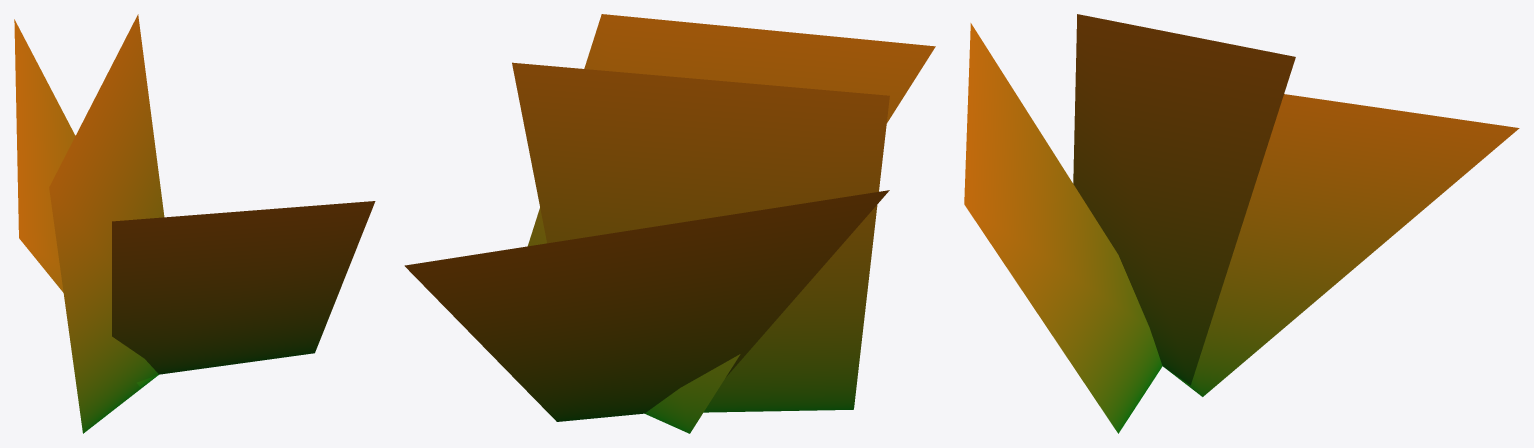
Rendered from Ocean Seaweed_LOD2_Var6_sdDgS.fbx.
The picture shows the model from 3 angles, left to right: view 1: azimuth 30°, elevation 25°; view 2: azimuth 150°, elevation 25°; view 3: azimuth 270°, elevation 25°; orthographic projection. The views are drawn at different scales.
Visible parts, largest first — view 1: _0cao_Var6_LOD2; view 2: _0cao_Var6_LOD2; view 3: _0cao_Var6_LOD2.
Boxes of the visible parts, x1,y1,x2,y2 form: _0cao_Var6_LOD2: (14,14,375,433); _0cao_Var6_LOD2: (404,14,935,433); _0cao_Var6_LOD2: (964,14,1519,433).
Size of the model in its own units: 24.94 by 24.67 by 36.97.
